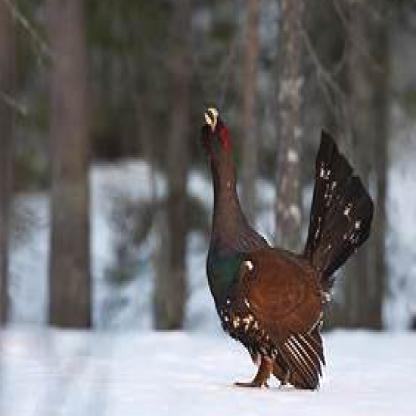chicken: (202, 106, 373, 392)
